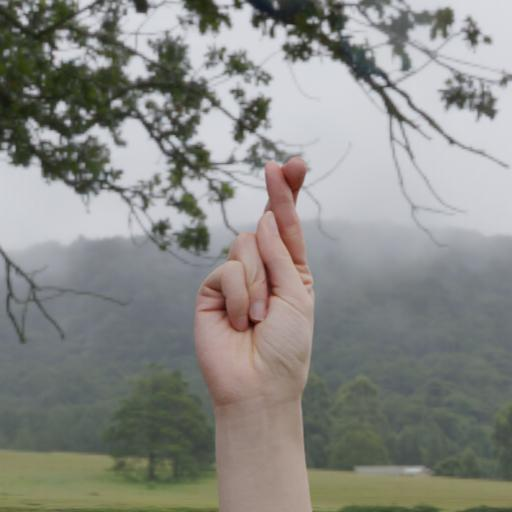R: (189, 156, 321, 413)
